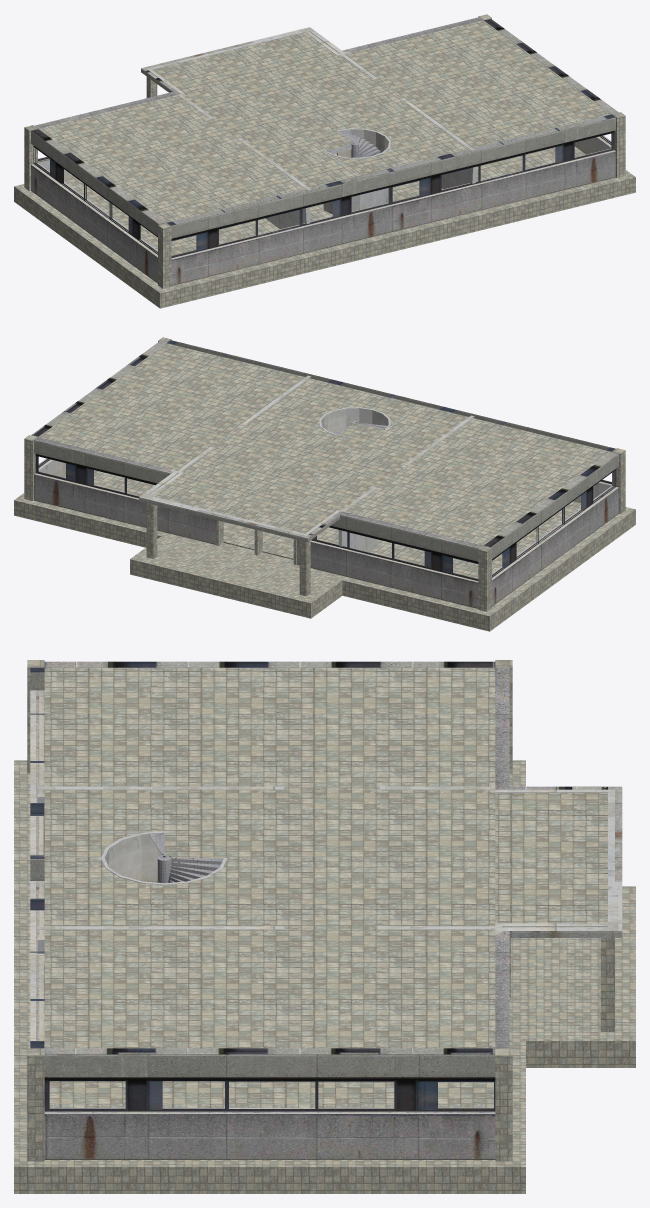
File: BagSS05base_high.fbx
3 renders of one model, top to bottom at view 1: azimuth 30°, elevation 25°; view 2: azimuth 150°, elevation 25°; view 3: azimuth 270°, elevation 25°, orthographic. The views are drawn at different scales.
Parts seen in each view (by area): view 1: baseCeiling700, baseMain700, baseFloor700, baseWalls700, baseStairs700; view 2: baseCeiling700, baseMain700, baseFloor700, baseWalls700; view 3: baseCeiling700, baseMain700, baseFloor700, baseWalls700, baseStairs700.
Boxes of the visible parts, bbox=[...] form: baseCeiling700: bbox=[39, 20, 611, 255]; baseMain700: bbox=[31, 17, 618, 285]; baseFloor700: bbox=[14, 14, 635, 308]; baseWalls700: bbox=[31, 20, 615, 259]; baseStairs700: bbox=[326, 130, 380, 157]; baseCeiling700: bbox=[38, 343, 610, 578]; baseMain700: bbox=[31, 340, 618, 608]; baseFloor700: bbox=[14, 337, 635, 631]; baseWalls700: bbox=[34, 343, 618, 582]; baseCeiling700: bbox=[44, 668, 607, 1107]; baseMain700: bbox=[30, 661, 622, 1159]; baseFloor700: bbox=[14, 660, 635, 1193]; baseWalls700: bbox=[30, 667, 622, 1113]; baseStairs700: bbox=[148, 833, 223, 883].
Bounding box in the file's own units: 43.75 × 6.65 × 28.28.
